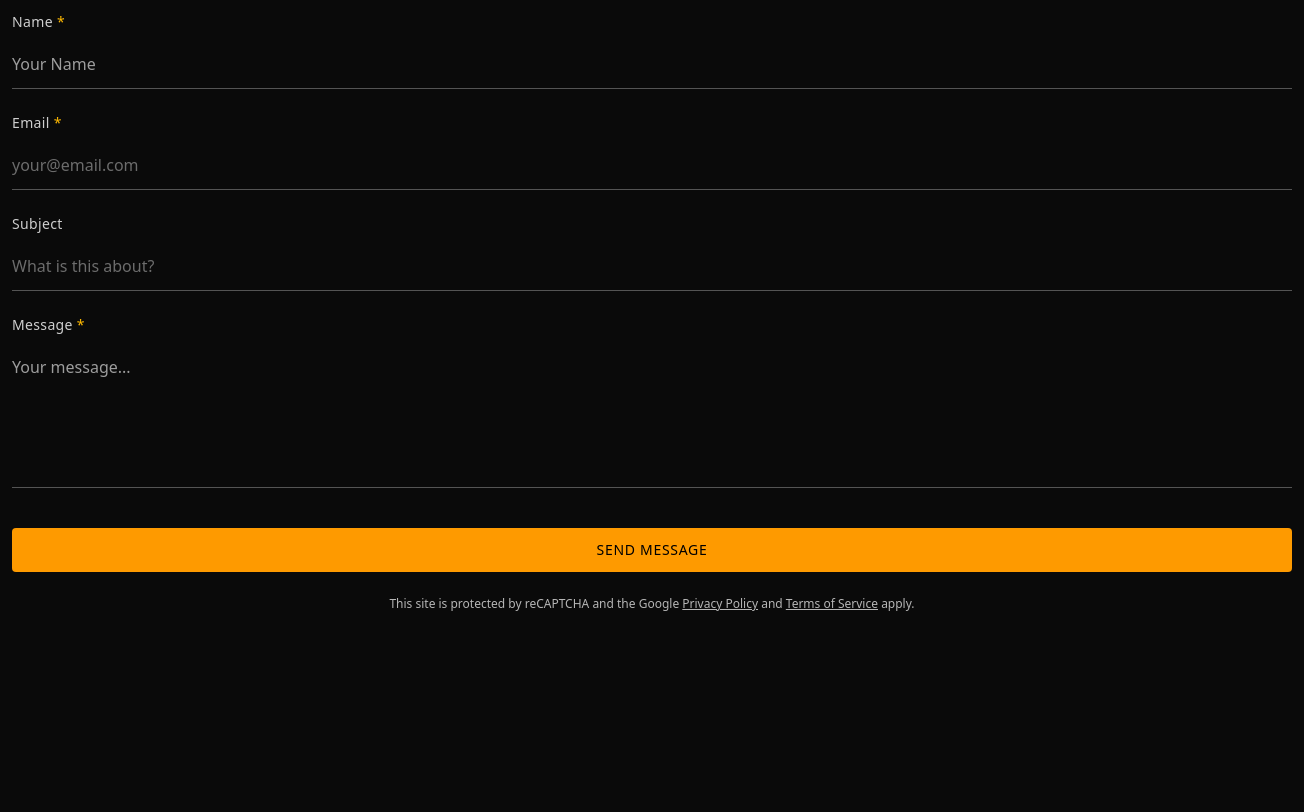
Test: ContactForm › clears errors when user starts typing
Click the button "SEND MESSAGE" at (652, 550), box [12,528,1292,572]
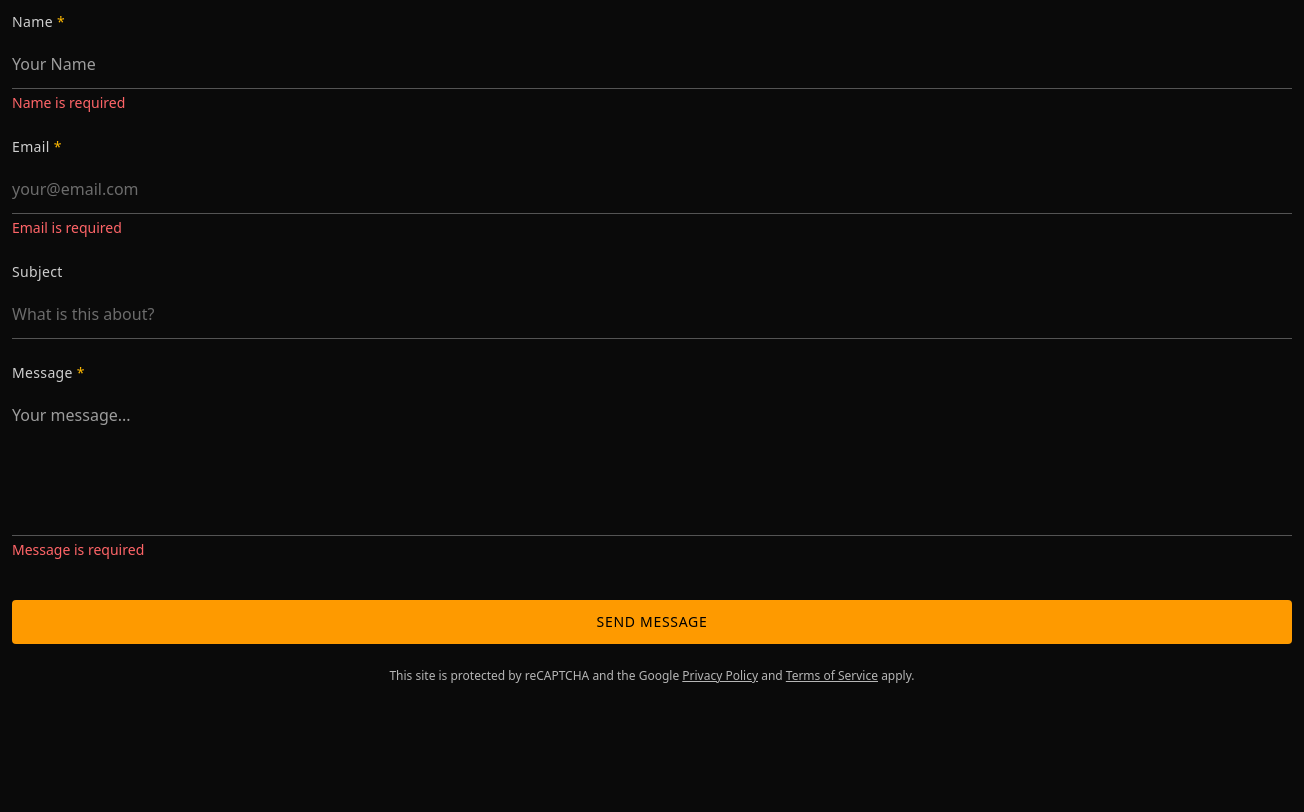
Check: the text "Name is required" is shown, box [12,93,125,112]
Type "T" into the field labelled "Name *" at (652, 64), box [12,40,1292,89]
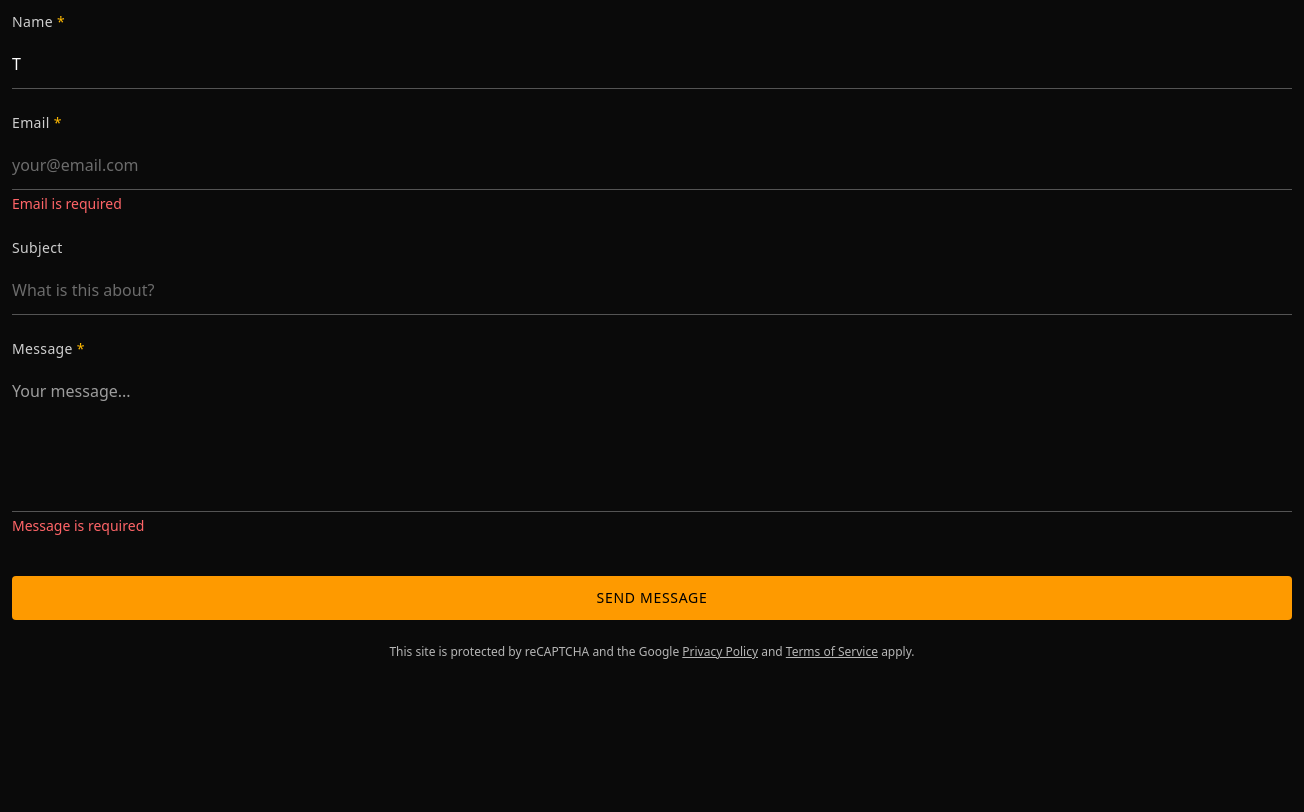
Check: the text "Name is required" is gone
